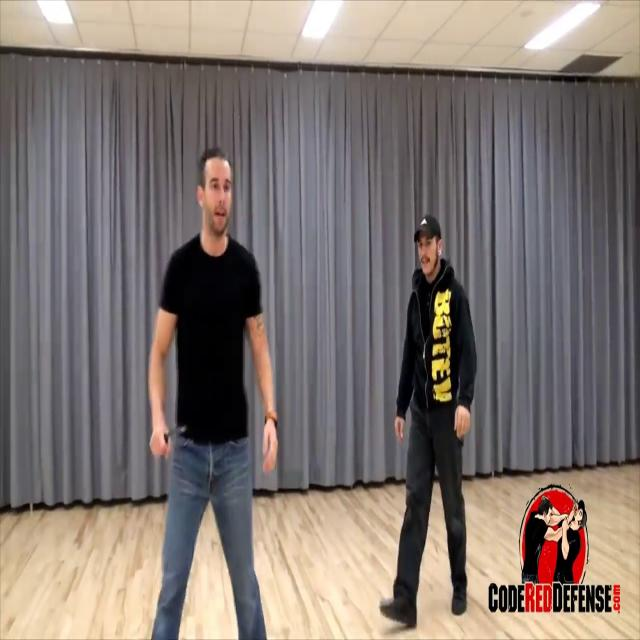Knife_Handle: (148, 423, 188, 459)
